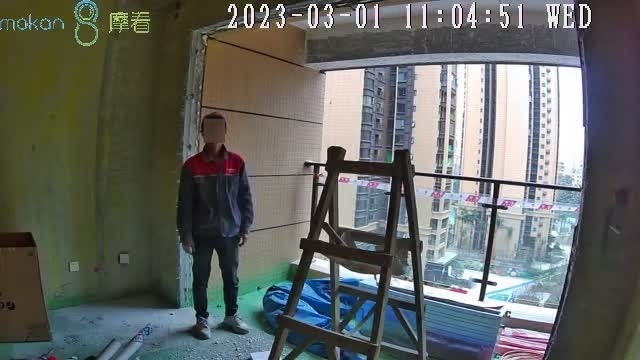people: (178, 113, 255, 337)
window: (312, 63, 585, 322)
